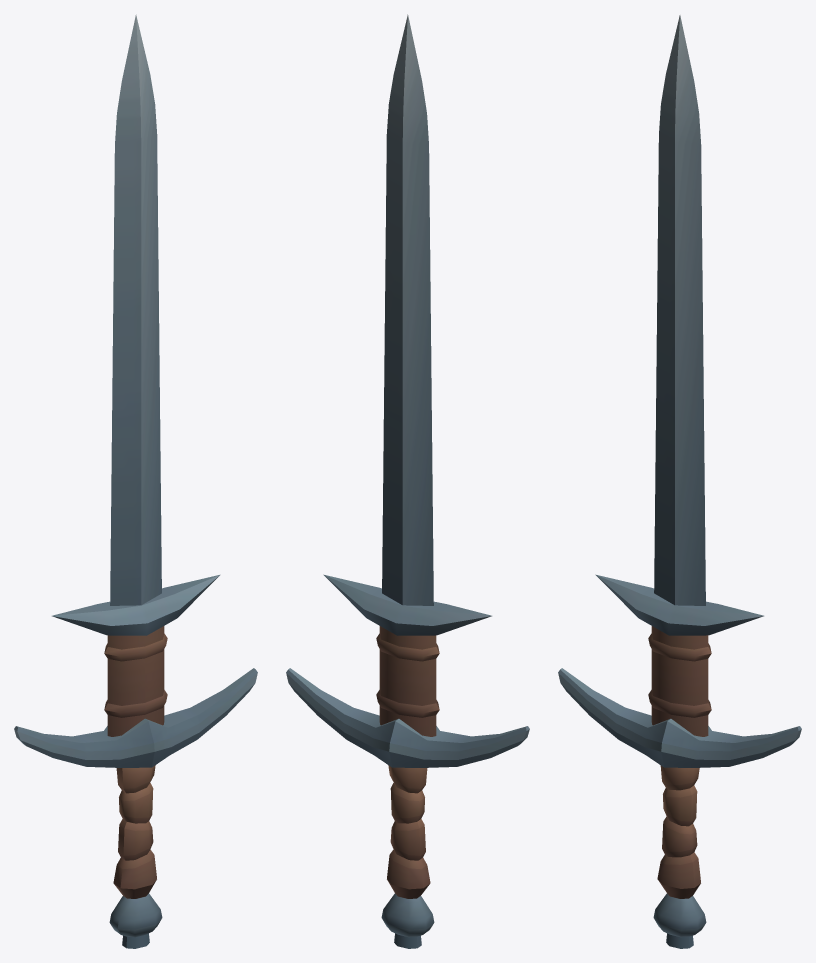
The model's file is sword_e.39e84a70.glb.
The picture shows the model from 3 angles, left to right: view 1: azimuth 30°, elevation 25°; view 2: azimuth 150°, elevation 25°; view 3: azimuth 330°, elevation 25°; orthographic projection.
Visible parts, largest first — view 1: sword_E; view 2: sword_E; view 3: sword_E.
Boxes of the visible parts, bbox=[...] form: sword_E: bbox=[14, 14, 257, 948]; sword_E: bbox=[286, 14, 529, 948]; sword_E: bbox=[558, 15, 801, 948].
Size of the model in its own units: 0.8795 by 3.25 by 0.237.
Materials: 1 (1 with a texture image).
